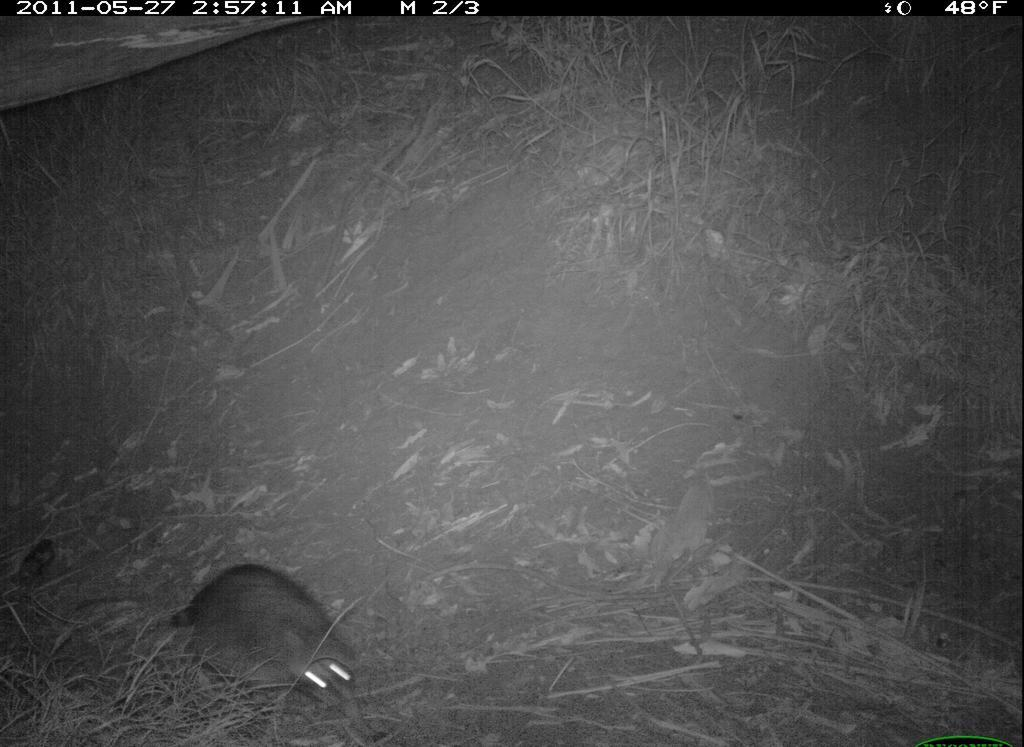raccoon: (163, 556, 388, 711)
